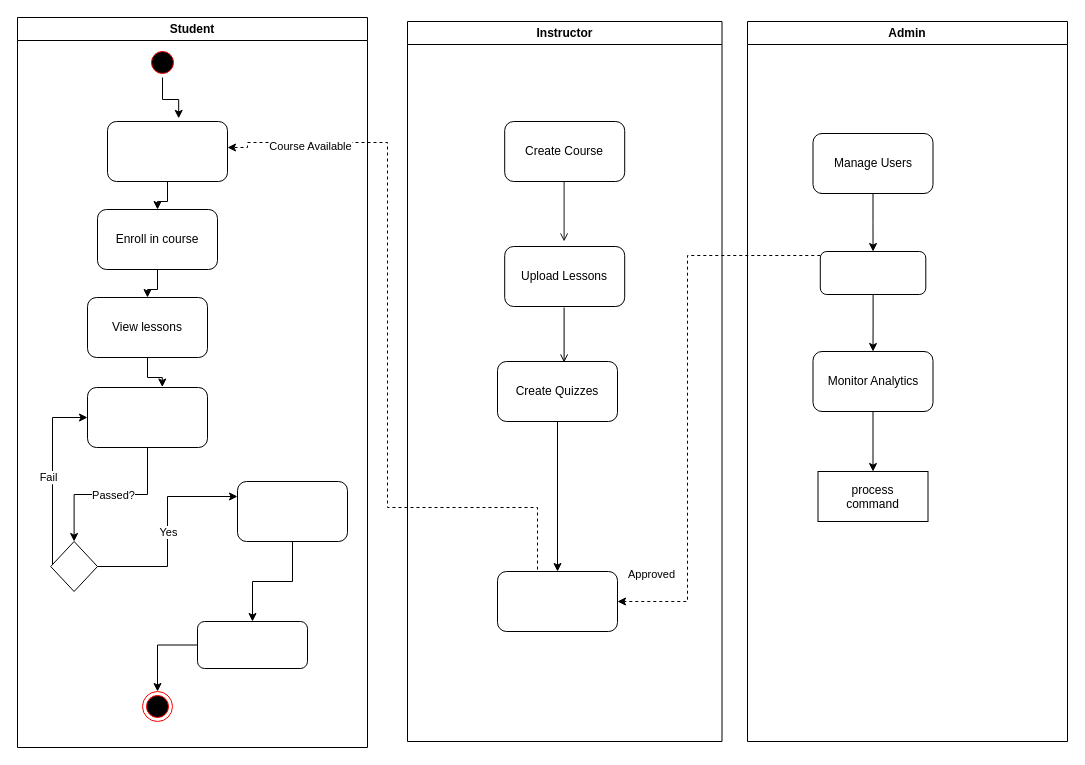
This 1085x765 diagram has some shape labels left out. Each missing label, with the centre of its shape:
Approve/Remove Courses: the point at 872,272
Browse Courses: the point at 167,151
Publish Course: the point at 557,601
Receive Certificate: the point at 292,511
Take Quizzes: the point at 147,417
Update Analytics: the point at 252,644
